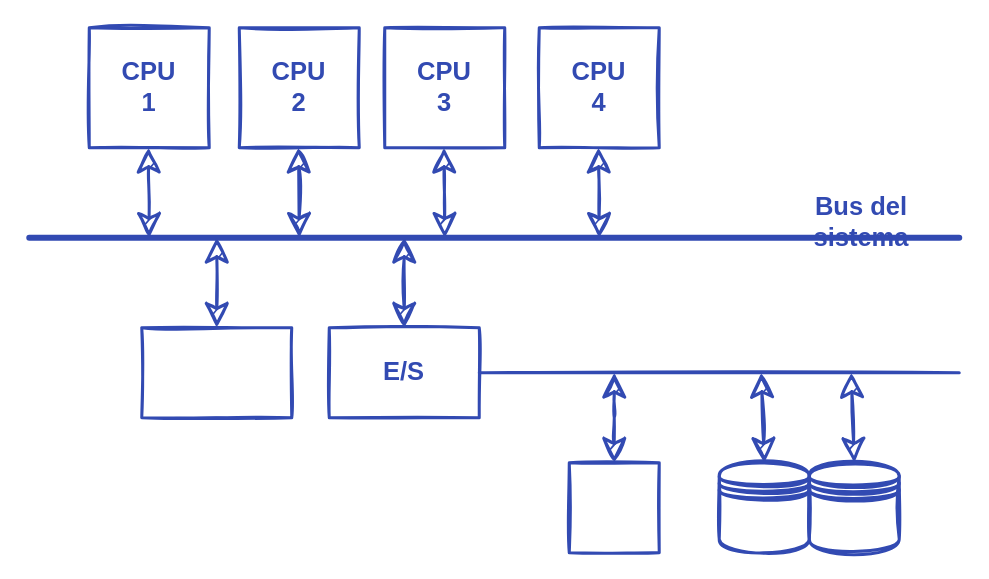
Image size: 989x579. Some labels were removed from this diagram. The centre of each missing label's shape, as x and y in pixels:
LAN: the point at 613,507
Memoria: the point at 216,372
